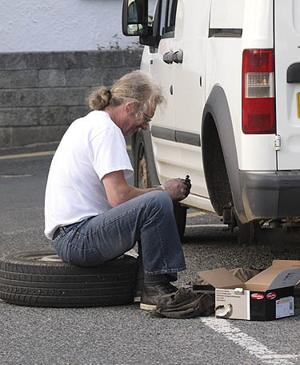person: (42, 66, 192, 314)
